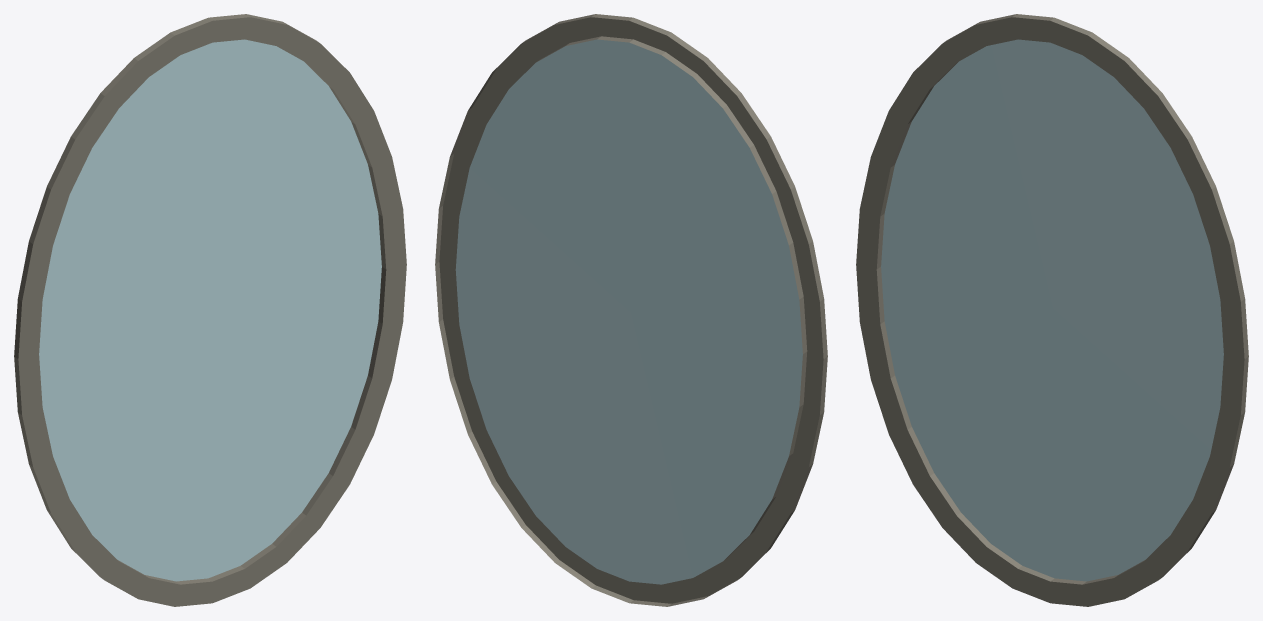
The model's file is miroir.fbx.
3 renders of one model, left to right at view 1: azimuth 30°, elevation 25°; view 2: azimuth 150°, elevation 25°; view 3: azimuth 330°, elevation 25°, orthographic.
Visible parts, largest first — view 1: Circle.001; view 2: Circle.001; view 3: Circle.001.
Boxes of the visible parts, box(x1,y1,x2,y2) form: Circle.001: box(14, 14, 406, 606); Circle.001: box(435, 14, 827, 606); Circle.001: box(856, 14, 1248, 606).
Bounding box in the file's own units: 45.8 × 65.62 × 0.8825.
